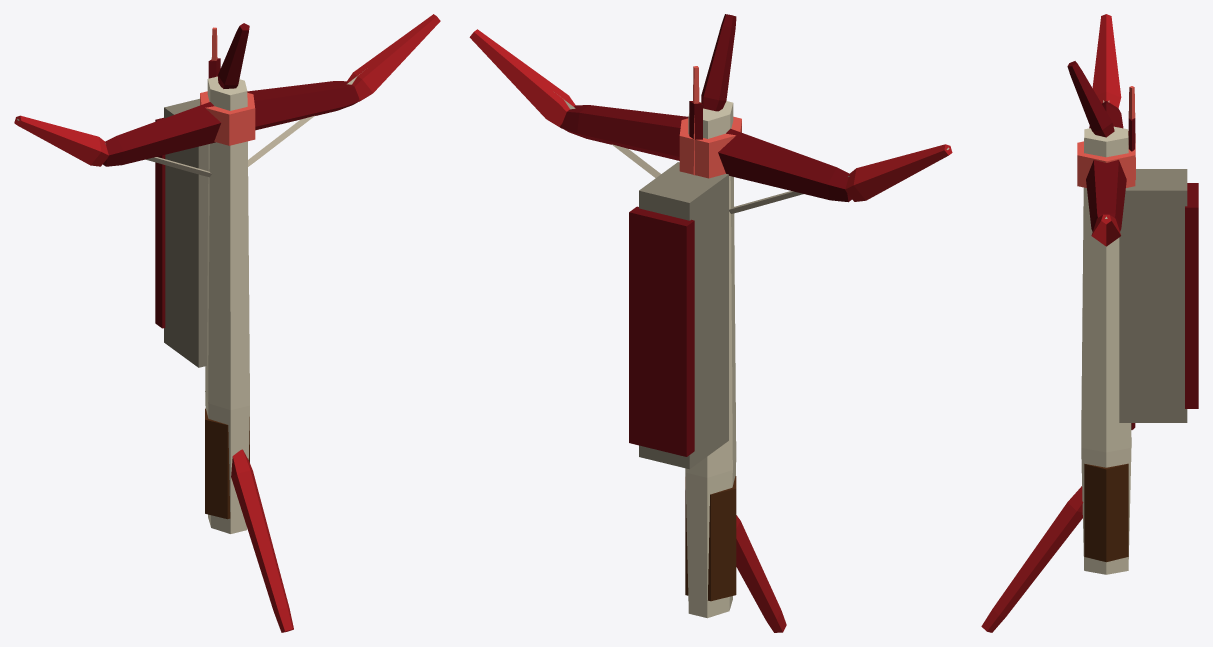
The model's file is wpn_crossbow_8.glb.
3 renders of one model, left to right at view 1: azimuth 30°, elevation 25°; view 2: azimuth 150°, elevation 25°; view 3: azimuth 270°, elevation 25°, orthographic. The views are drawn at different scales.
Parts seen in each view (by area): view 1: wpn_crossbow_8; view 2: wpn_crossbow_8; view 3: wpn_crossbow_8.
Boxes of the visible parts, x1,y1,x2,y2 form: wpn_crossbow_8: (14, 14, 440, 632); wpn_crossbow_8: (469, 14, 952, 632); wpn_crossbow_8: (981, 14, 1198, 632).
Size of the model in its own units: 0.5661 by 0.7367 by 0.2543.
